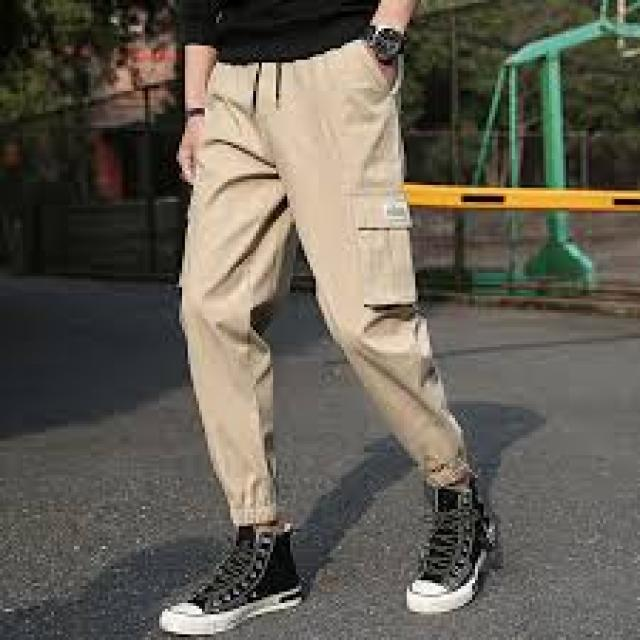pants: (181, 41, 476, 520)
